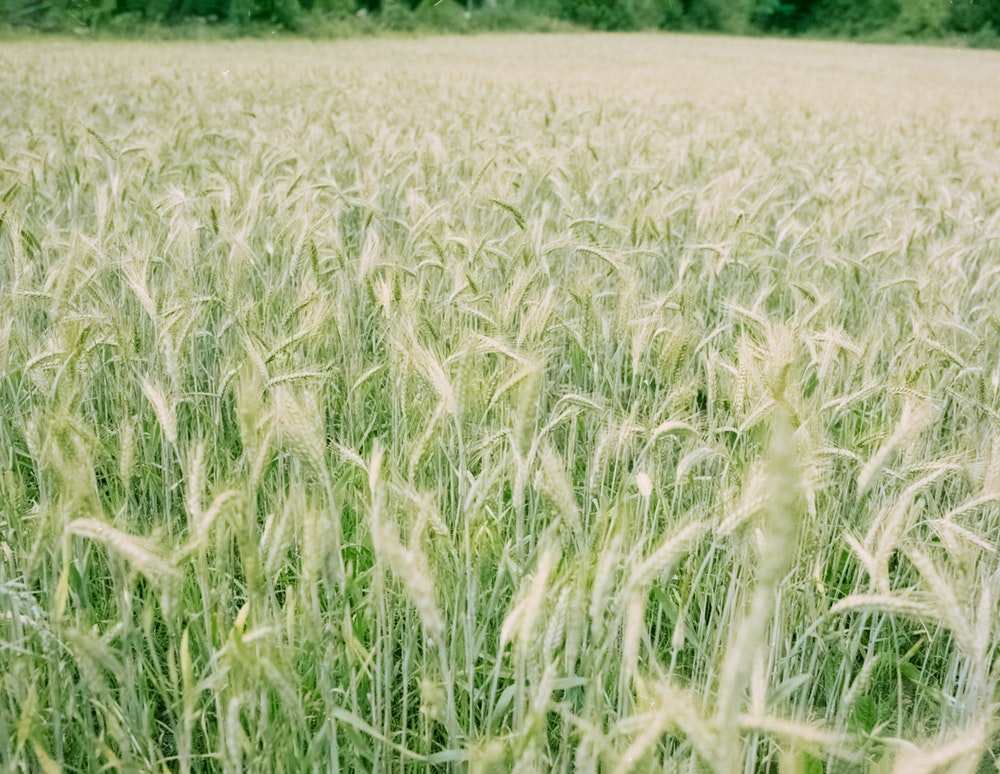Wheat: (35, 196, 958, 714)
